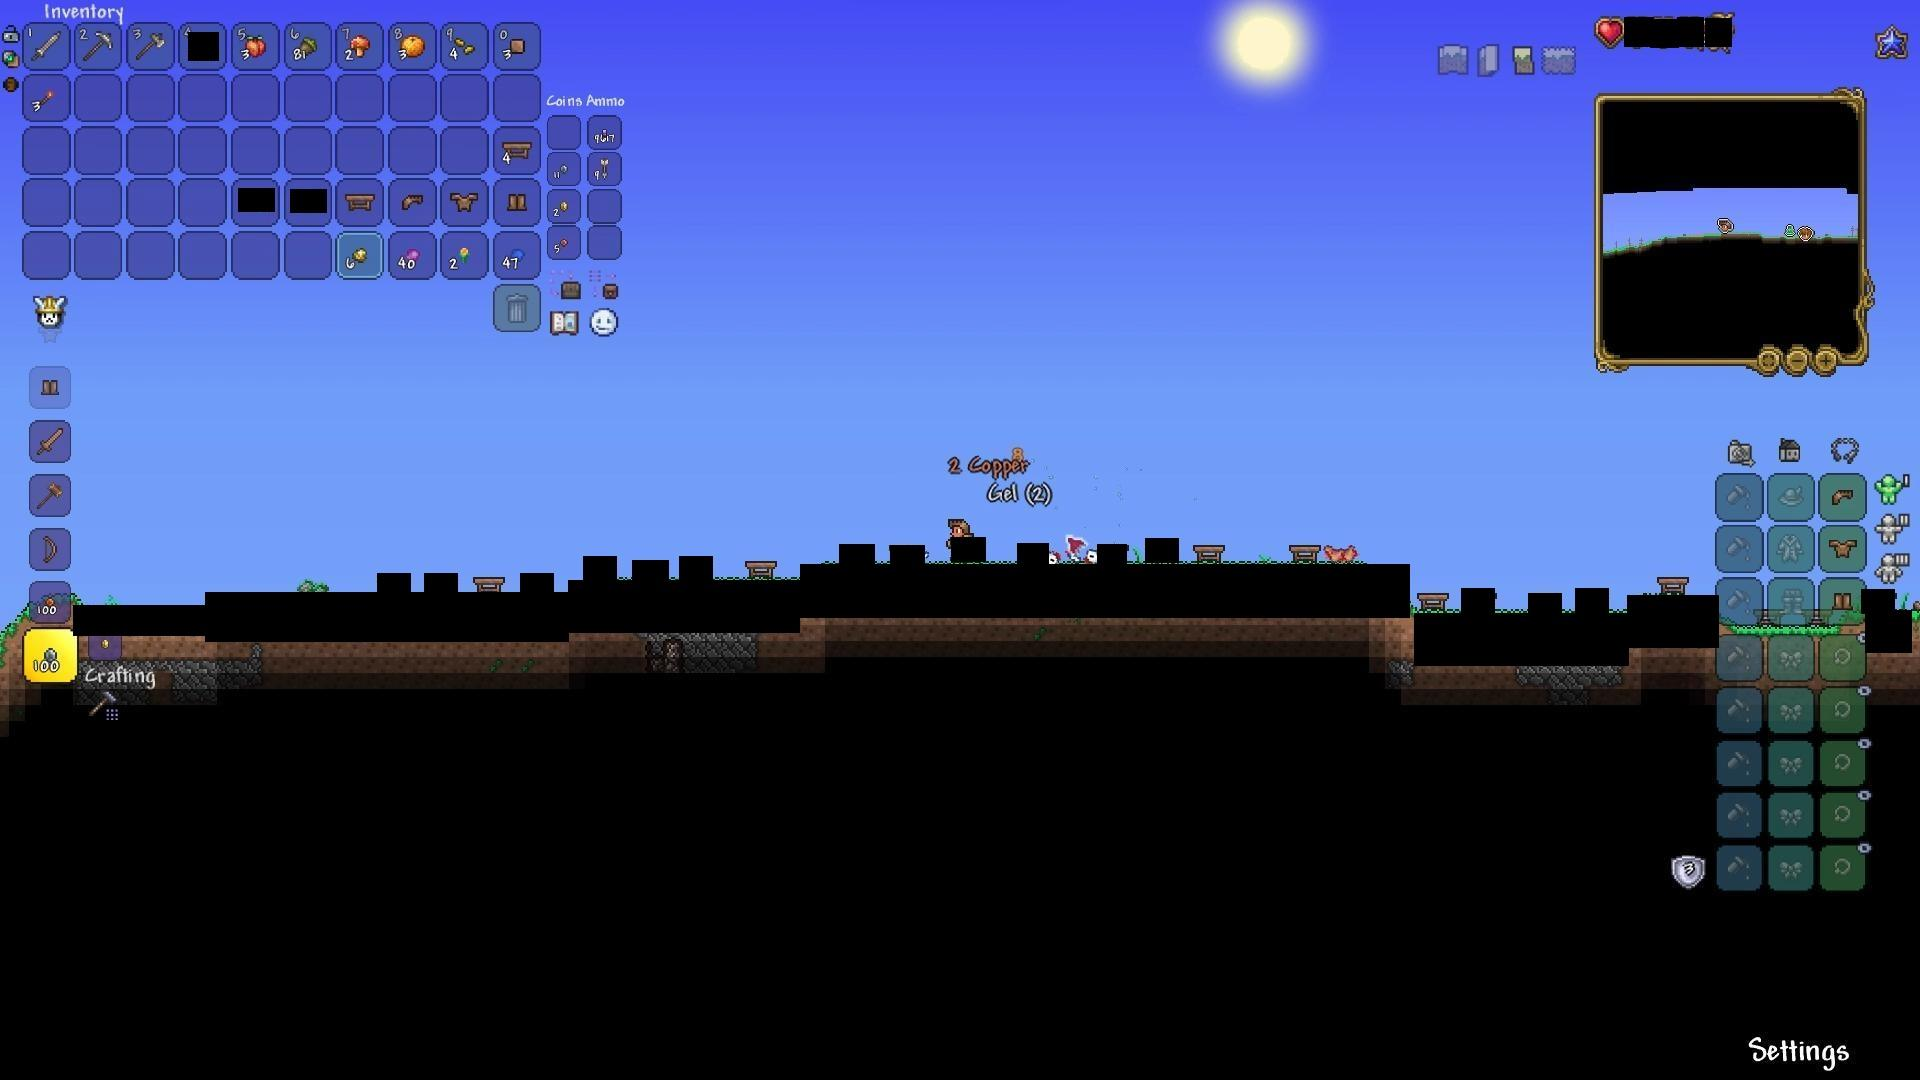breastplate: (451, 191, 480, 212), (1830, 537, 1858, 558)
heart: (1598, 16, 1627, 44)
helmet: (1828, 484, 1857, 510), (400, 190, 429, 215)
legs: (505, 190, 530, 218), (1832, 587, 1855, 615)
workbench: (340, 190, 377, 214), (500, 138, 535, 162), (744, 558, 777, 582), (472, 574, 505, 597), (1658, 574, 1691, 597), (1415, 591, 1448, 615), (1192, 542, 1225, 566), (1290, 545, 1324, 567)
